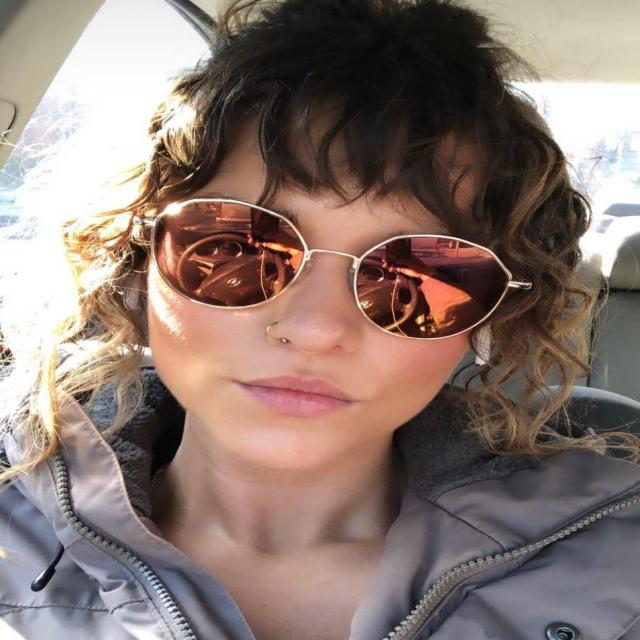2_gafas: (136, 196, 534, 341)
